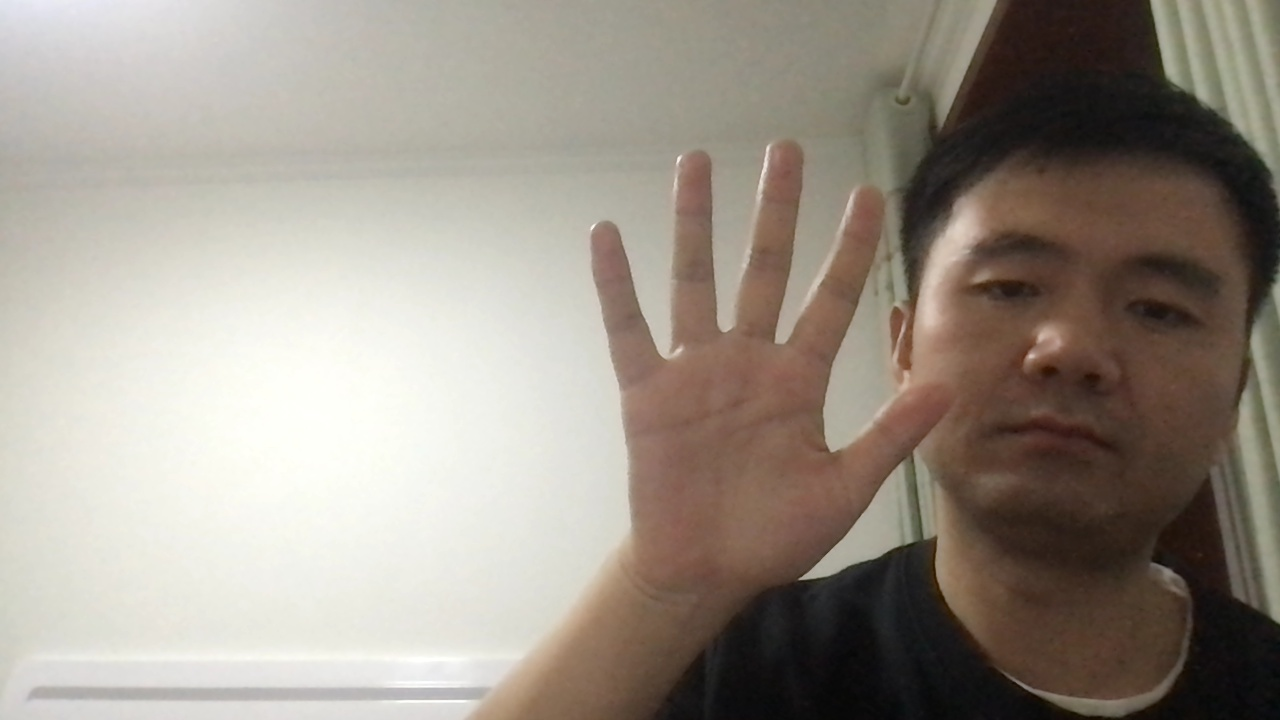hello: (582, 132, 954, 606)
